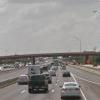Car: (55, 76, 83, 98)
